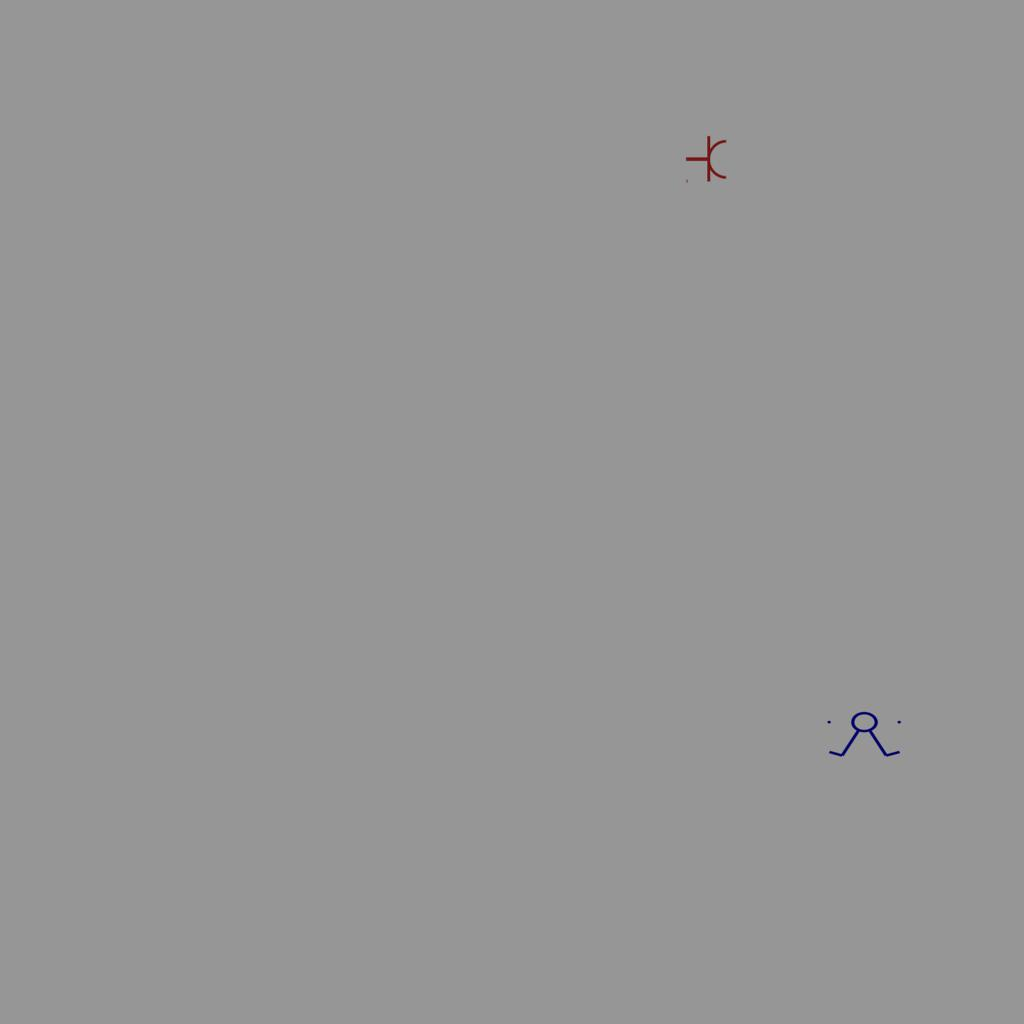Schukosteckdose_einfach: (685, 135, 728, 185)
Serienschalter: (823, 711, 907, 759)
